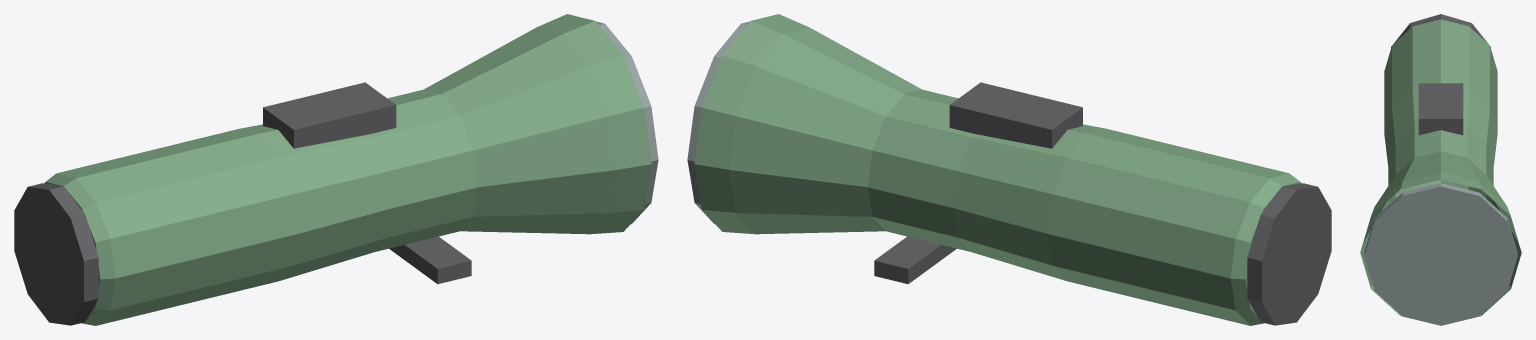
Rendered from flashlight.glb.
3 views of the same model, side by side, from view 1: azimuth 30°, elevation 25°; view 2: azimuth 150°, elevation 25°; view 3: azimuth 270°, elevation 25° (orthographic). The views are drawn at different scales.
Visible parts, largest first — view 1: NC_flashlight; view 2: NC_flashlight; view 3: NC_flashlight.
Boxes of the visible parts, bbox=[...] form: NC_flashlight: bbox=[14, 14, 658, 325]; NC_flashlight: bbox=[687, 14, 1331, 325]; NC_flashlight: bbox=[1360, 14, 1521, 325].
Size of the model in its own units: 0.228 by 0.08 by 0.08.
